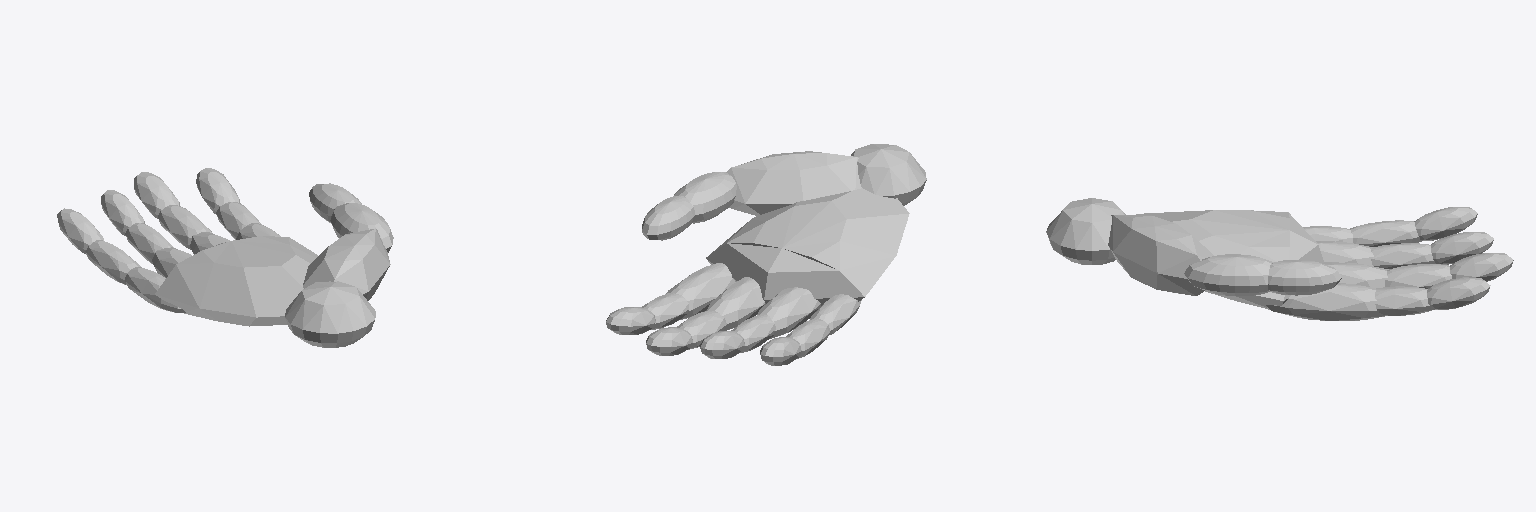
Rendered from R_ARM_HAND.obj.
3 views of the same model, side by side, from view 1: azimuth 30°, elevation 25°; view 2: azimuth 150°, elevation 25°; view 3: azimuth 270°, elevation 25° (orthographic).
Size of the model in its own units: 0.116 by 0.049 by 0.2186.